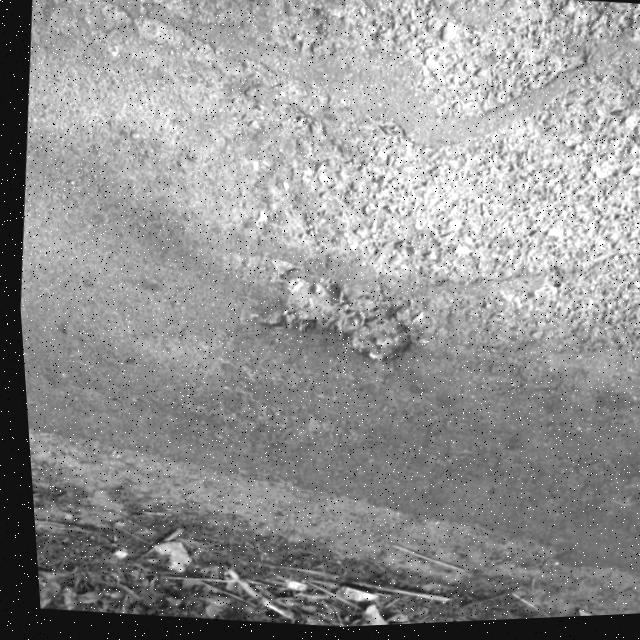Pothole: (256, 270, 418, 378)
